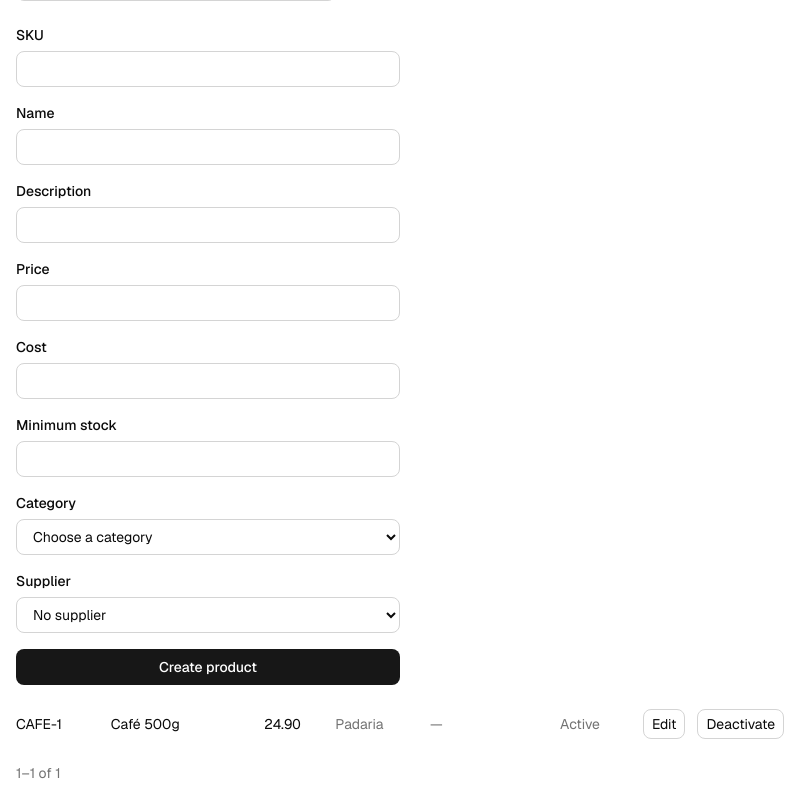
products panel › switches a product off from its row and says so
(page scrolled)
expect the text "CAFE-1" is shown: met, box [16, 715, 62, 733]
What coordinates should you click on to do the following:
click the button with aria-label "Deactivate Café 500g"
I would click on:
 (741, 724)
Its box is [698, 709, 784, 739].
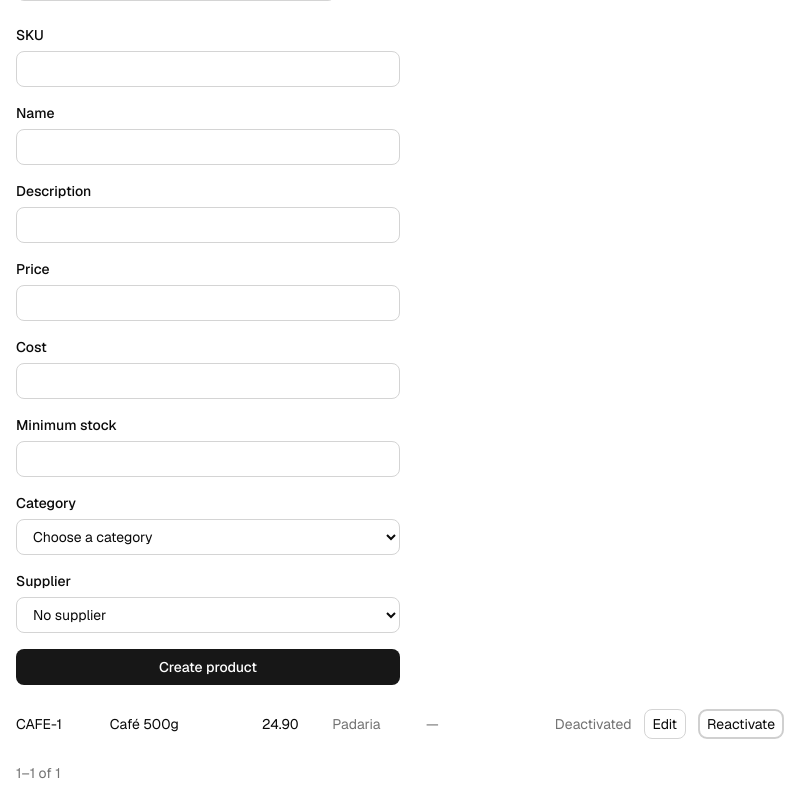
expect the button with aria-label "Reactivate Café 500g" is shown: met, box [698, 709, 784, 739]
expect the text "Deactivated" is shown: met, box [555, 714, 632, 734]
